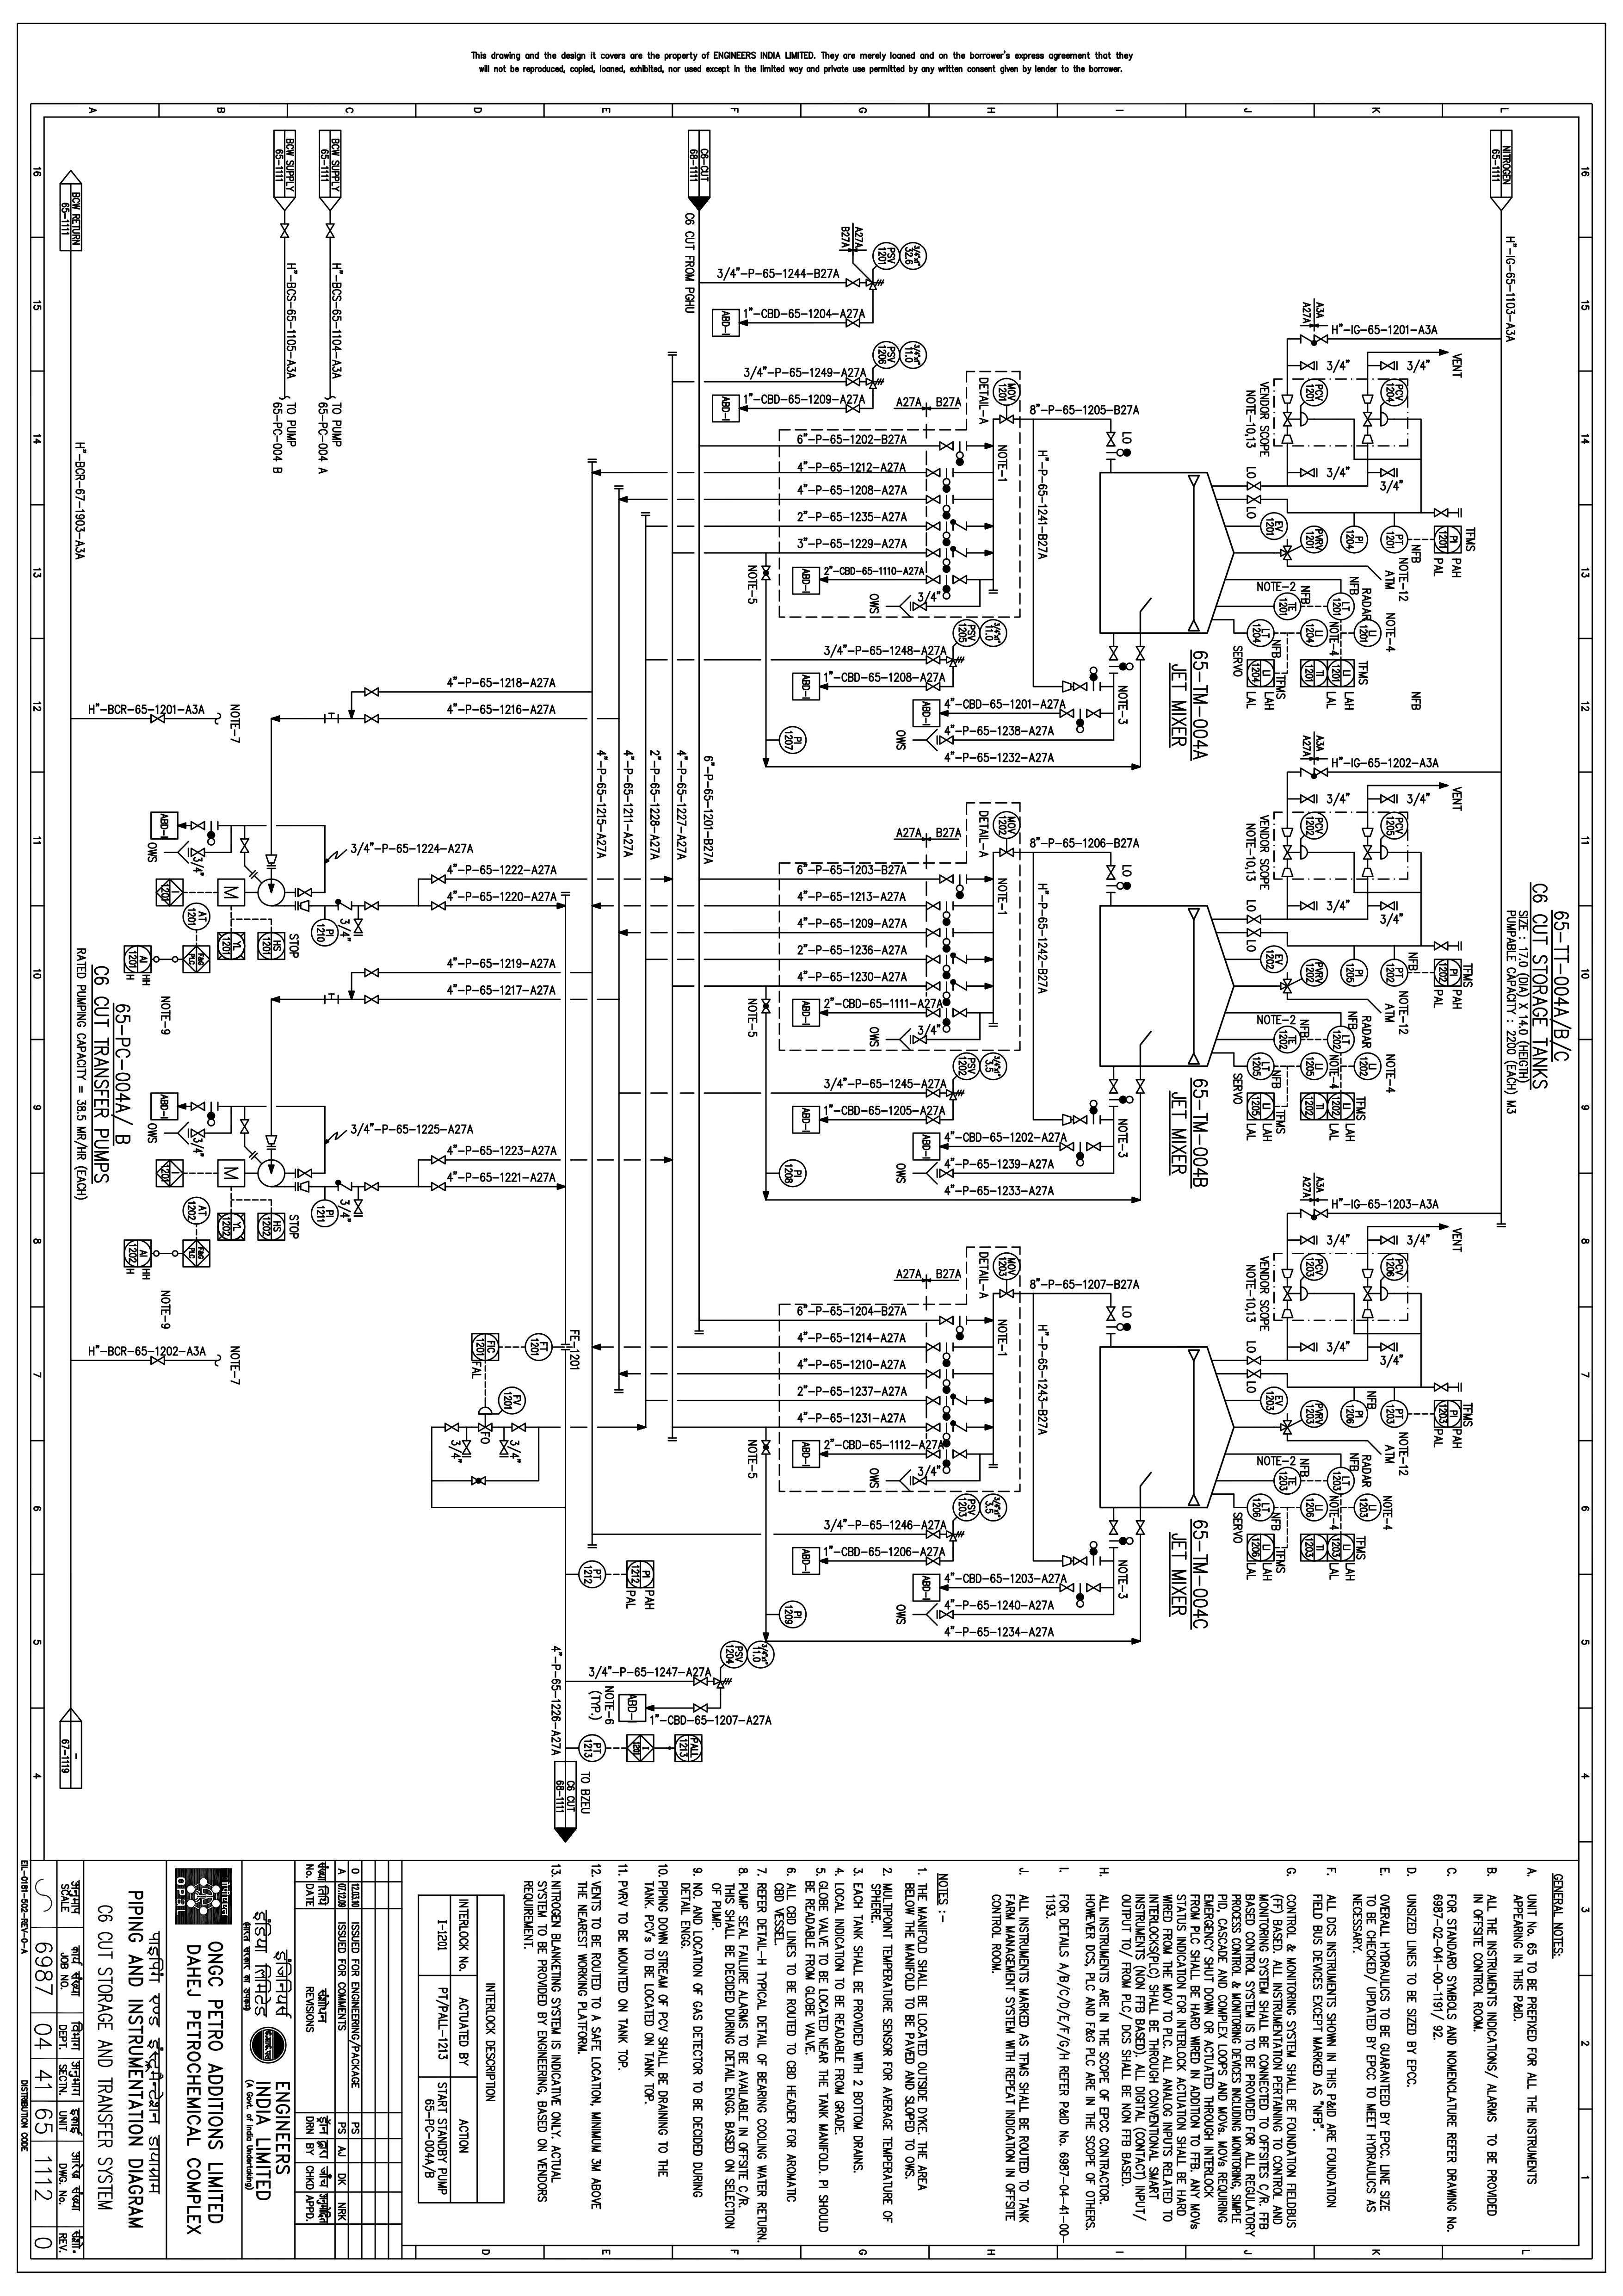ball valve: (1296, 1203, 1331, 1223), (1054, 1110, 1091, 1128), (1057, 1551, 1089, 1570), (286, 1166, 320, 1182), (1057, 678, 1091, 694), (1374, 899, 1407, 915), (1295, 332, 1331, 346), (355, 683, 383, 701), (260, 852, 283, 873), (1277, 1418, 1298, 1440), (1430, 1374, 1453, 1395), (1358, 409, 1379, 432), (840, 271, 864, 290), (350, 1196, 369, 1221), (905, 601, 934, 617), (915, 1553, 945, 1569), (142, 711, 169, 729), (917, 1419, 943, 1437), (1296, 766, 1333, 778), (838, 314, 866, 330), (1291, 358, 1323, 372), (949, 1003, 970, 1024), (922, 516, 945, 536), (1103, 1514, 1122, 1537), (360, 991, 385, 1008), (949, 1444, 973, 1462), (920, 546, 947, 562), (357, 966, 383, 982), (184, 1124, 211, 1140), (321, 223, 343, 242), (495, 1440, 515, 1462), (1131, 1518, 1151, 1539), (1360, 1281, 1377, 1303), (1275, 978, 1298, 996), (1430, 933, 1453, 950), (1105, 1079, 1128, 1096), (1082, 1138, 1105, 1156), (292, 885, 320, 899), (144, 1354, 172, 1368), (1293, 464, 1321, 478), (1240, 494, 1268, 508), (931, 1168, 959, 1182), (917, 1112, 945, 1126), (934, 437, 959, 453), (920, 678, 945, 694), (1107, 639, 1122, 664), (1375, 357, 1400, 372), (1240, 928, 1272, 940), (472, 1421, 499, 1435), (1131, 643, 1149, 664), (1360, 843, 1377, 864), (1131, 1077, 1152, 1094), (423, 871, 450, 885), (423, 1182, 453, 1195), (422, 1154, 451, 1166), (922, 466, 945, 481), (237, 836, 253, 859), (353, 917, 369, 940), (906, 1476, 929, 1491), (1298, 1339, 1321, 1354), (1298, 1231, 1321, 1247), (843, 402, 868, 416), (358, 1180, 383, 1195), (689, 1674, 713, 1688), (685, 1700, 710, 1715), (920, 1448, 945, 1462), (1082, 1581, 1107, 1595), (1374, 1233, 1402, 1245), (933, 734, 961, 747), (1375, 467, 1403, 480), (1375, 791, 1400, 805), (757, 998, 775, 1017), (1302, 896, 1321, 913), (936, 1310, 957, 1326), (924, 1340, 945, 1356), (922, 977, 943, 993), (920, 494, 947, 506), (761, 1433, 773, 1460), (1050, 1581, 1077, 1593), (1375, 1340, 1402, 1353), (1296, 792, 1323, 805), (1240, 480, 1266, 492), (362, 711, 385, 726), (186, 817, 209, 831), (441, 1419, 464, 1433), (922, 1367, 945, 1381), (1103, 1300, 1117, 1323), (922, 926, 945, 940), (427, 898, 450, 912), (950, 574, 975, 587), (186, 847, 211, 859), (1244, 1356, 1268, 1368), (934, 871, 959, 884), (919, 899, 943, 912), (920, 952, 945, 964), (186, 1098, 207, 1112), (1080, 708, 1103, 720), (1244, 915, 1266, 928), (920, 1528, 943, 1541), (926, 571, 943, 587), (759, 566, 775, 583), (920, 657, 947, 668), (235, 1119, 253, 1135), (934, 1611, 961, 1621), (917, 1395, 943, 1405), (917, 1008, 943, 1019), (998, 1288, 1019, 1300), (1244, 1368, 1268, 1379), (1430, 508, 1454, 518), (1282, 841, 1295, 863), (279, 223, 293, 241), (1059, 706, 1077, 720), (1054, 1145, 1082, 1154), (843, 379, 866, 390), (360, 901, 383, 912), (906, 1035, 929, 1045), (920, 1087, 943, 1098), (509, 1421, 529, 1433), (996, 847, 1017, 857), (1282, 1284, 1295, 1302), (1282, 411, 1295, 429)
